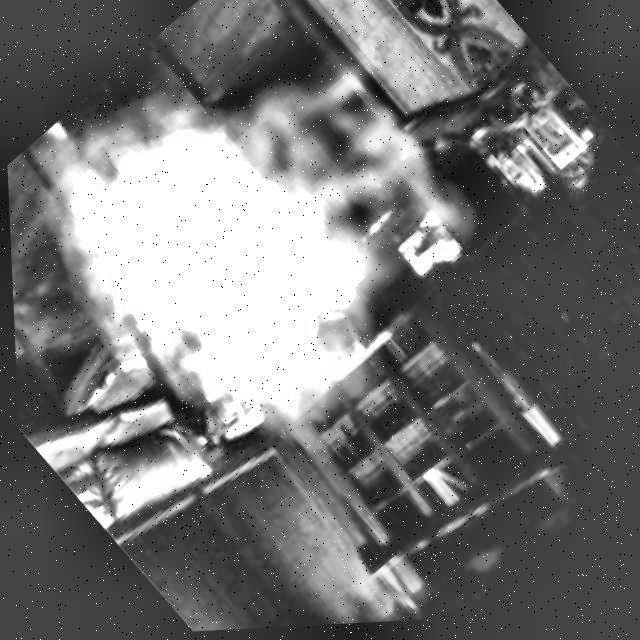Smoke: (19, 0, 507, 474)
